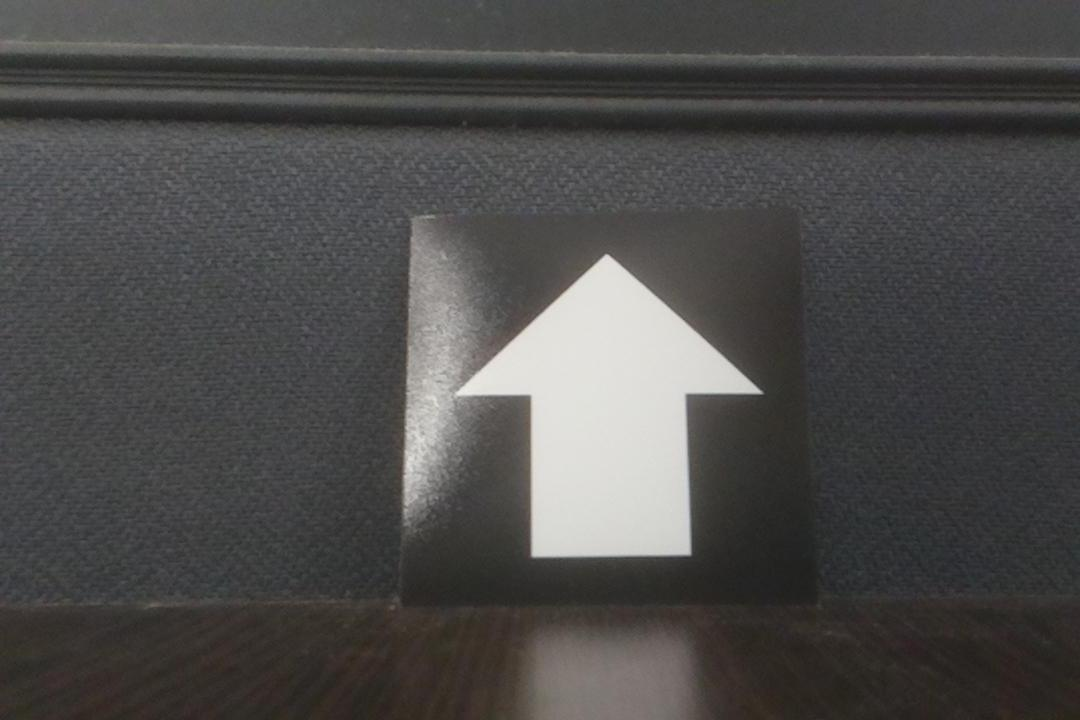up_arrow: (411, 215, 808, 598)
